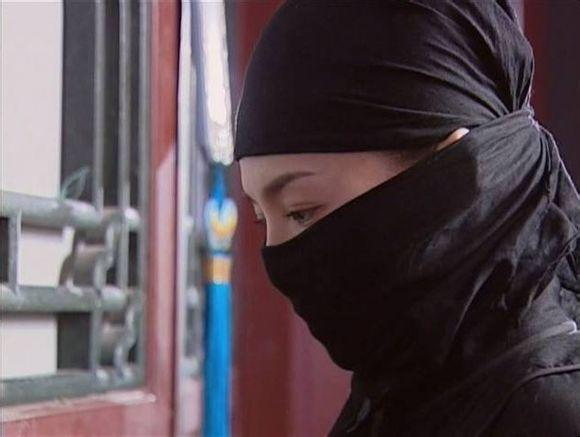OK: (250, 169, 404, 323)
